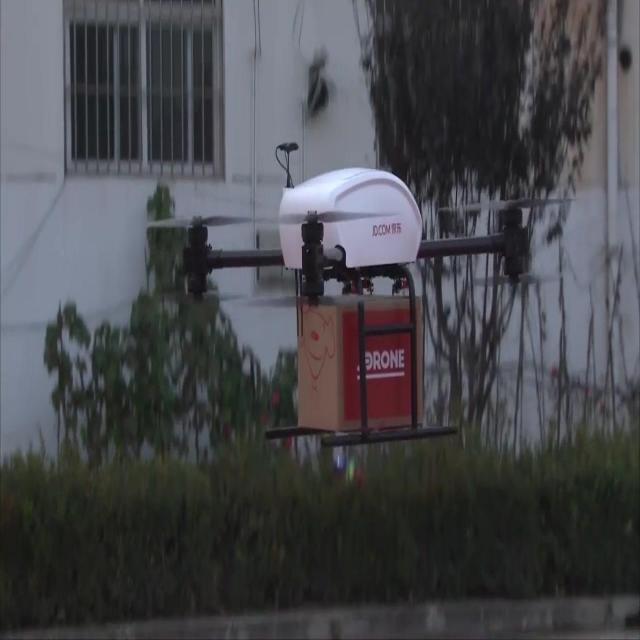UAV: (148, 140, 574, 447)
